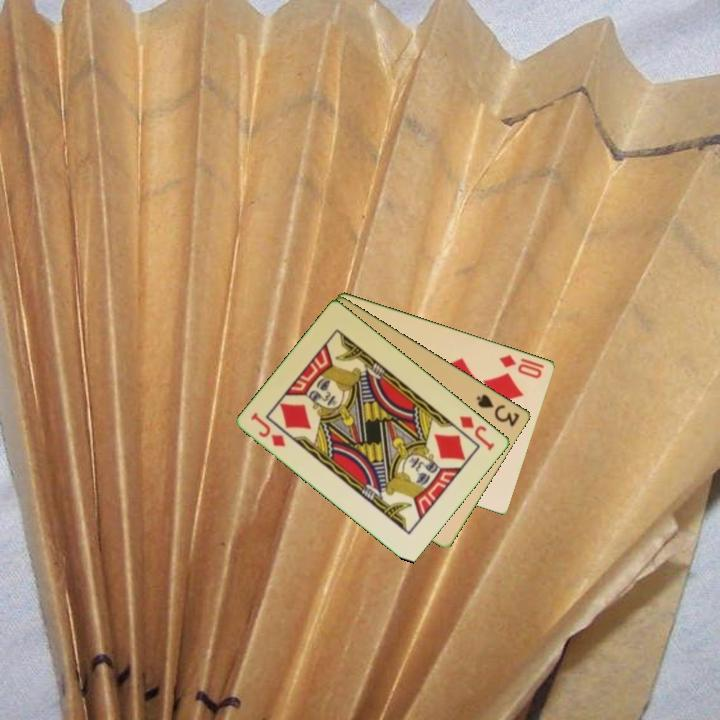10d: (496, 351, 545, 381)
3s: (473, 390, 523, 430)
Jd: (456, 412, 498, 454), (247, 409, 289, 450)
